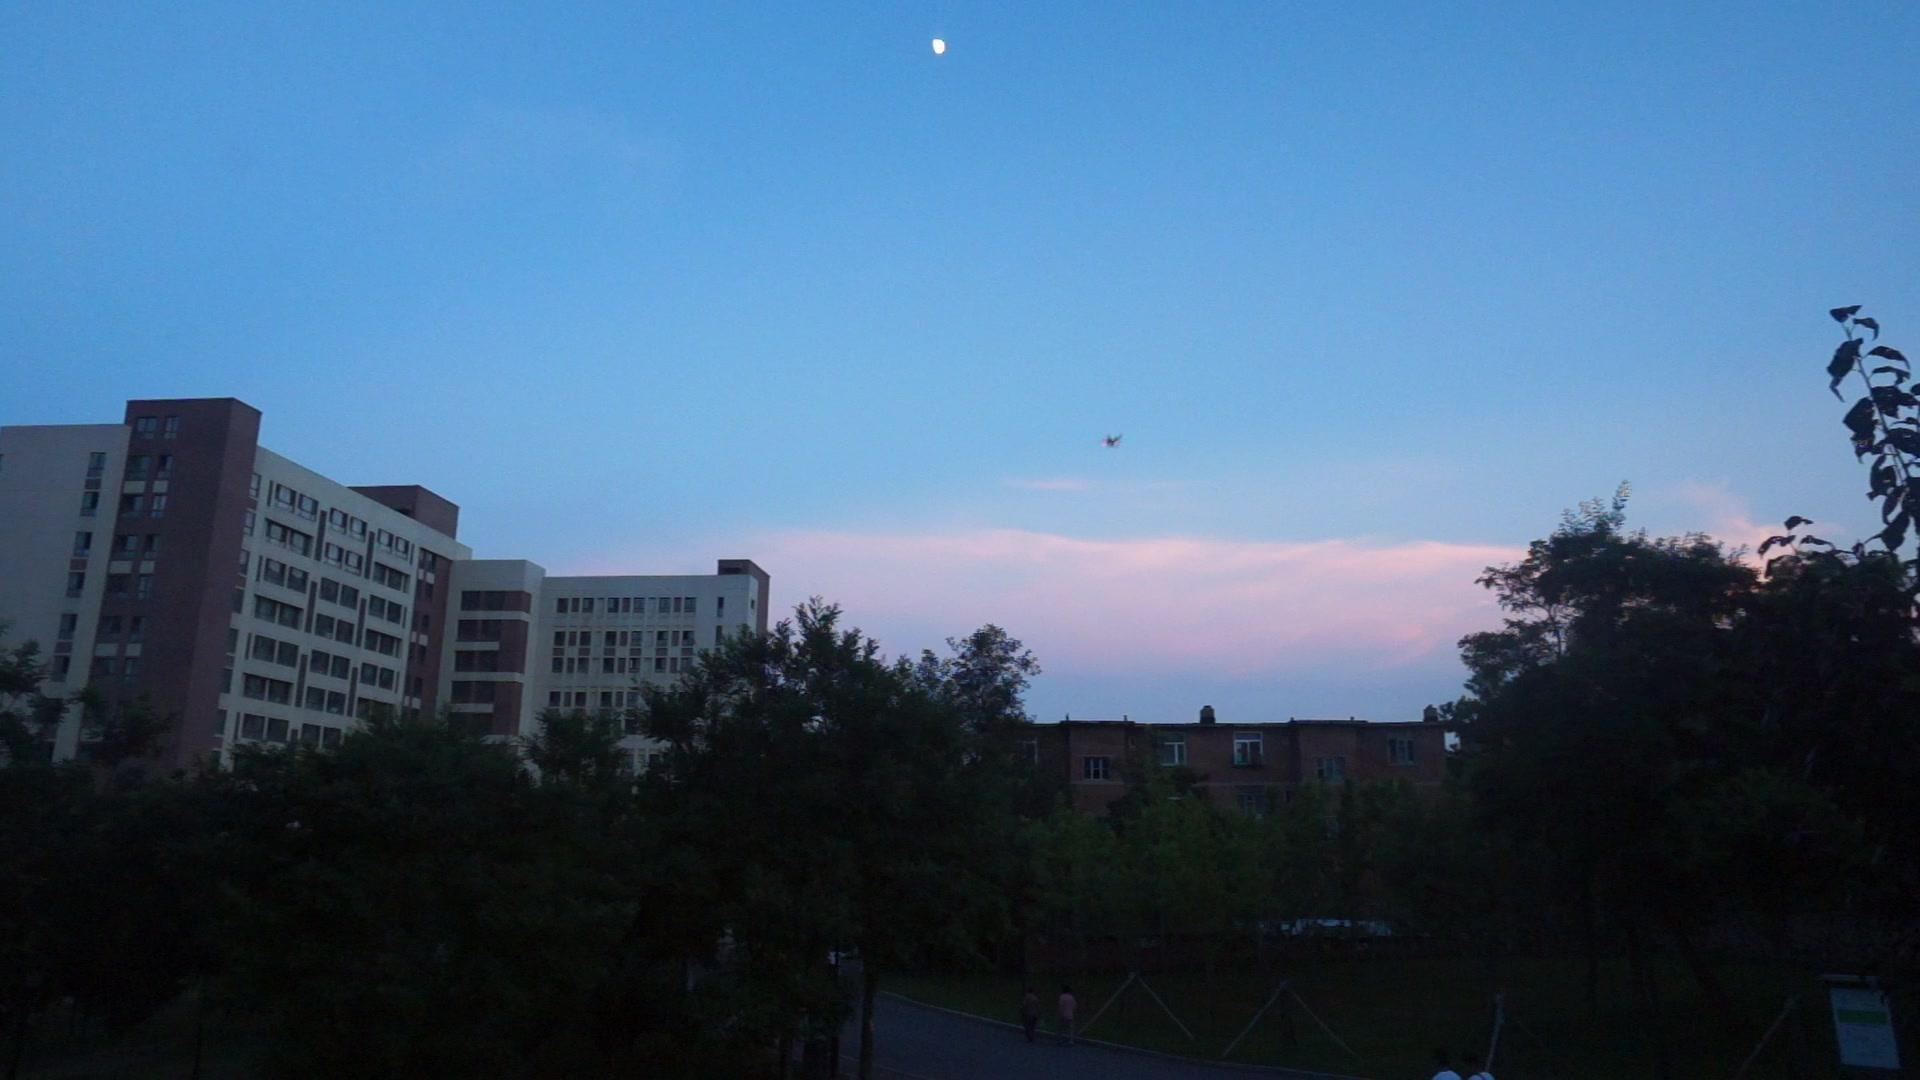UAV: (1102, 433, 1125, 448)
